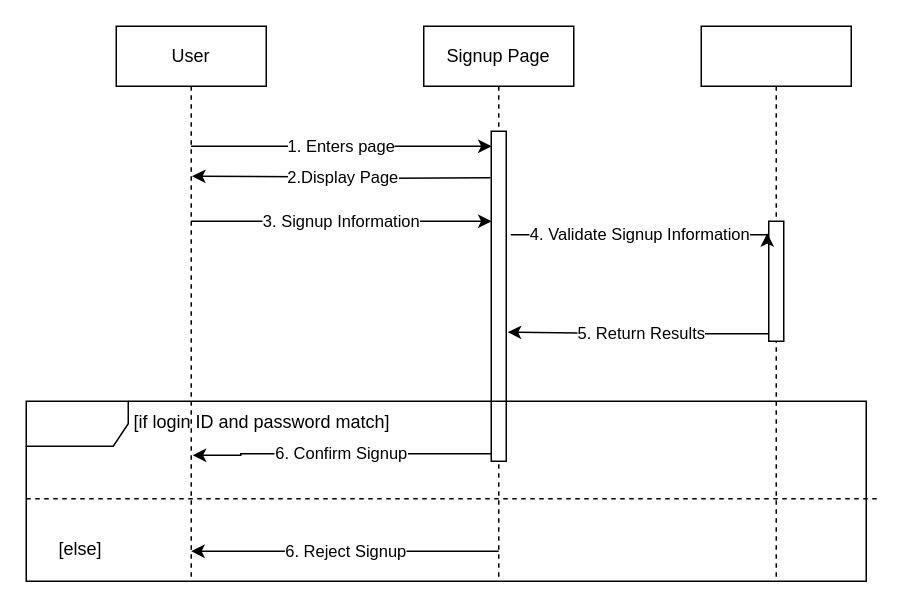
Some shapes in this 908 by 608 pixel diagram are drawn without their labels. The box of each missing label's shape, as (x1, y1, x2, y2) in pixels:
alt: (25, 400, 866, 581)
Database: (700, 25, 851, 581)
